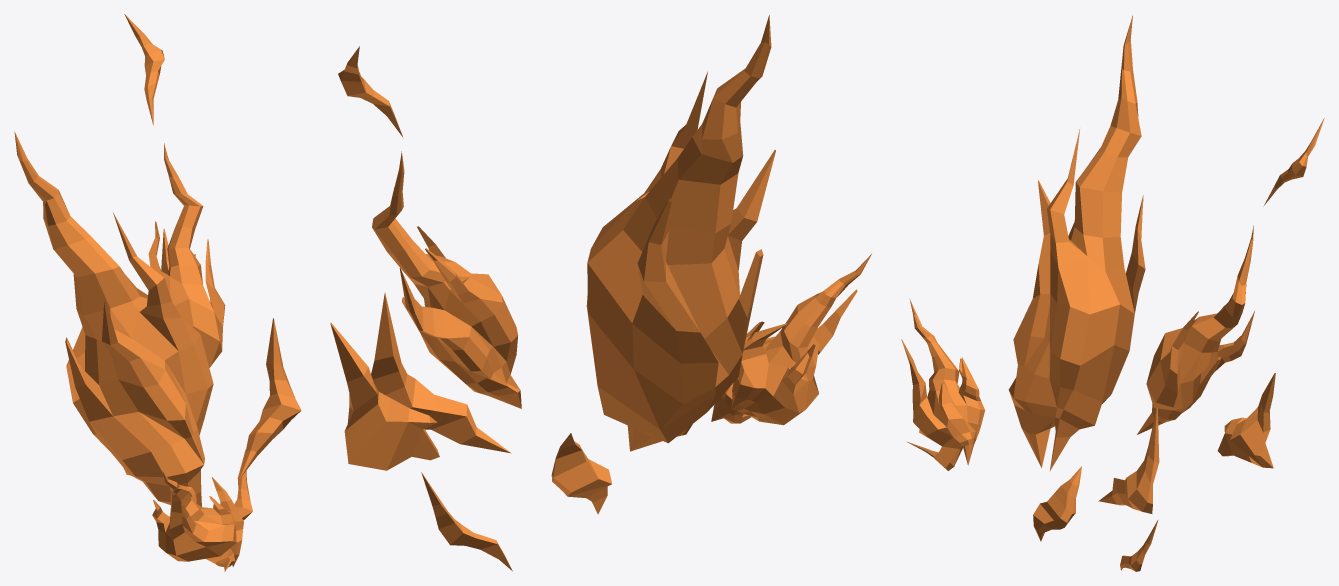
The model's file is F_Fire.fbx.
The picture shows the model from 3 angles, left to right: view 1: azimuth 30°, elevation 25°; view 2: azimuth 150°, elevation 25°; view 3: azimuth 270°, elevation 25°; orthographic projection. The views are drawn at different scales.
Visible parts, largest first — view 1: pCylinder013; view 2: pCylinder013; view 3: pCylinder013.
Boxes of the visible parts, <box> form: pCylinder013: <box>14,14,301,571</box>; pCylinder013: <box>330,15,871,571</box>; pCylinder013: <box>901,15,1324,571</box>.
Size of the model in its own units: 4.71 by 7.21 by 5.98.
